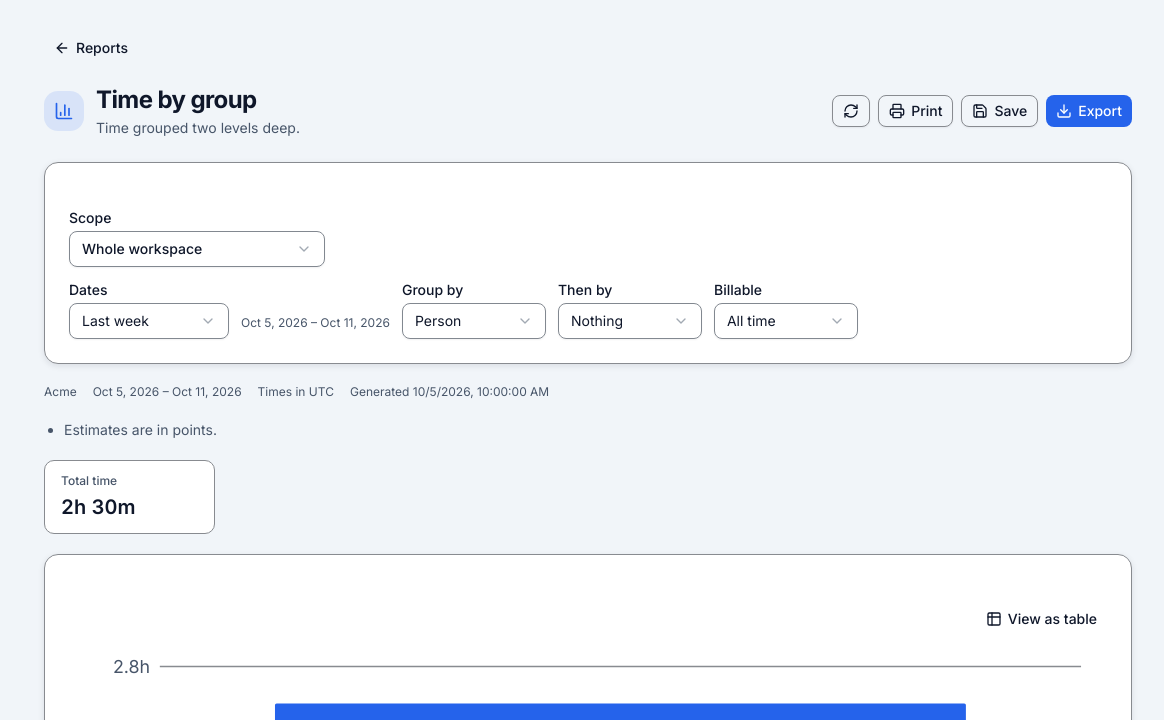
Test: <ReportPage> › writes a filter change to the URL, and runs it
The width and height of the screenshot is (1164, 720).
Click the dropdown named "Dates" at (149, 321), box [69,303,229,339]
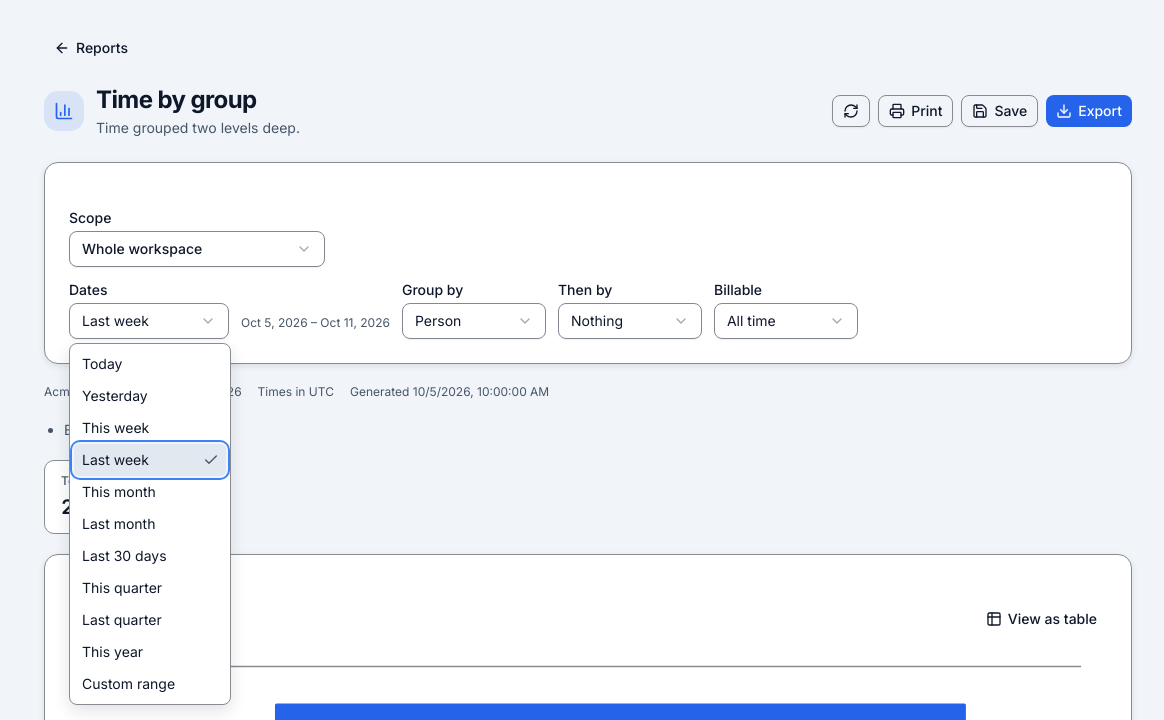
Click the option "Custom range" at (129, 684), box [82,675,175,692]
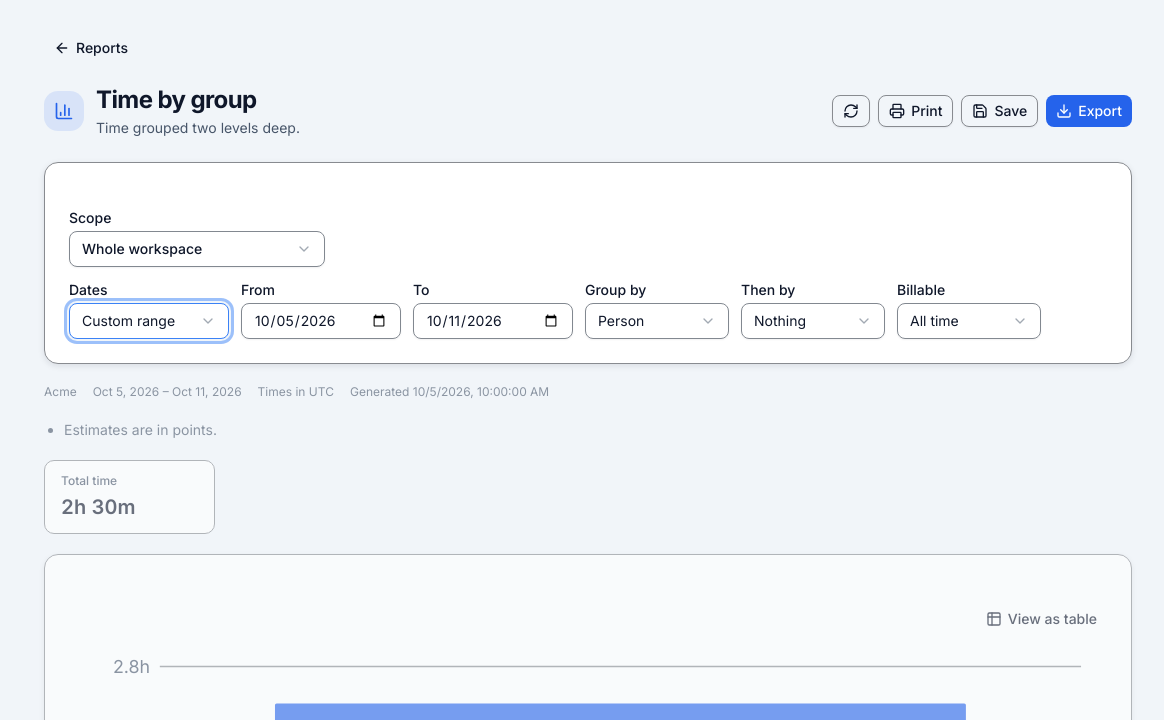
Type "2026-09-01" into the date field labelled "From" at (321, 321), box [241,303,401,339]
(page scrolled)
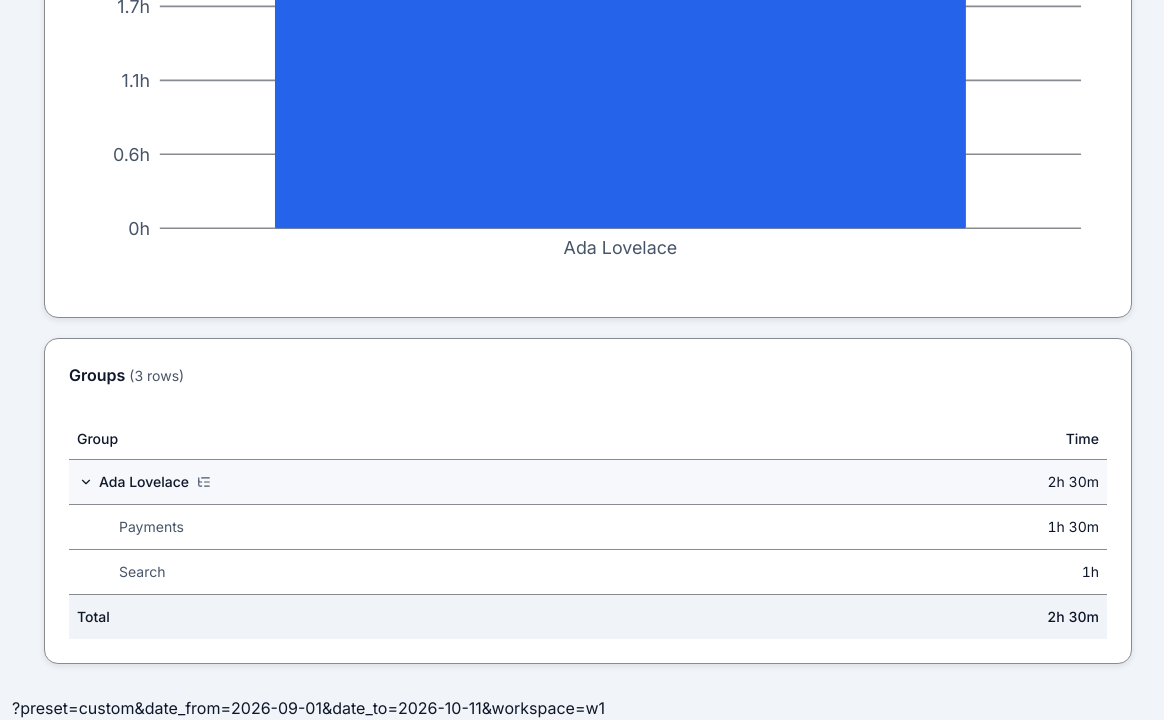
Check: the text with test id "search" shows "workspace=w1", box [12,698,605,718]
Check: the text with test id "search" shows "preset=custom", box [12,698,605,718]
Check: the text with test id "search" shows "date_from=2026-09-01", box [12,698,605,718]
